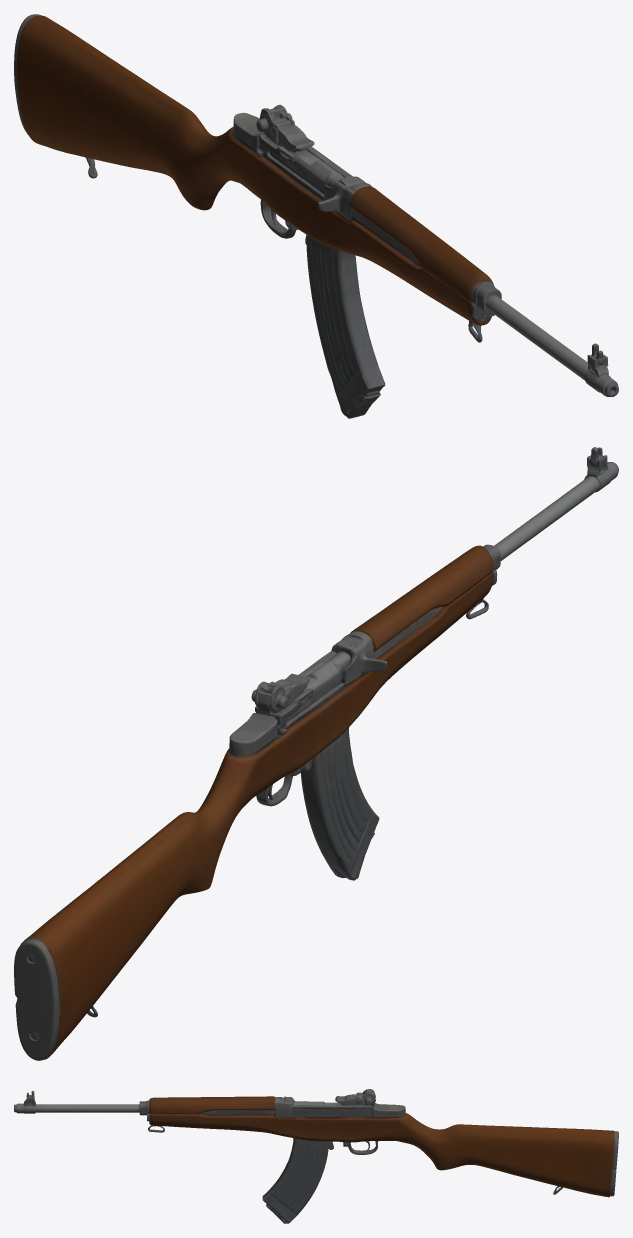
The model's file is rifle.lo.glb.
3 views of the same model, one above another, from view 1: azimuth 30°, elevation 25°; view 2: azimuth 150°, elevation 25°; view 3: azimuth 270°, elevation 25° (orthographic). The views are drawn at different scales.
Parts seen in each view (by area): view 1: model; view 2: model; view 3: model.
Part boxes in pixels (x1,y1,x2,y2): model: (14, 14, 618, 418); model: (14, 447, 618, 1060); model: (14, 1089, 618, 1223).
Size of the model in its own units: 0.1038 by 0.4524 by 1.9.
1 material, 1 textured.
